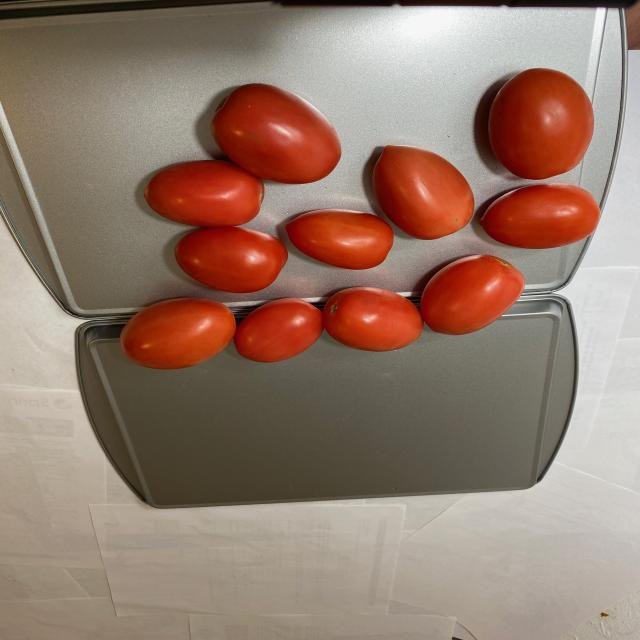tomato: (111, 75, 601, 372)
